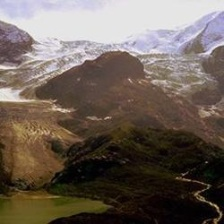neutral: (2, 9, 223, 222)
